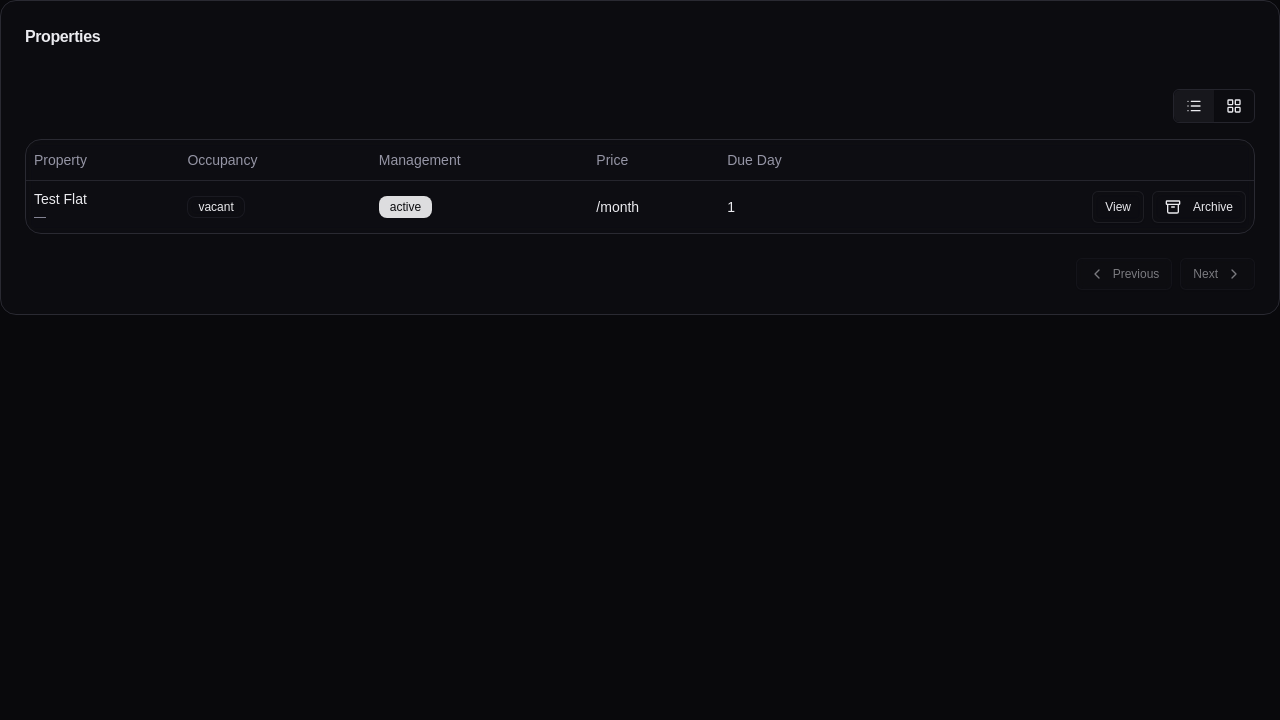
Test: PmPropertiesPage archive › closes the dialog after a successful archive
Click the button with aria-label "Archive Test Flat".
click(1199, 206)  # box [1152,190,1246,222]
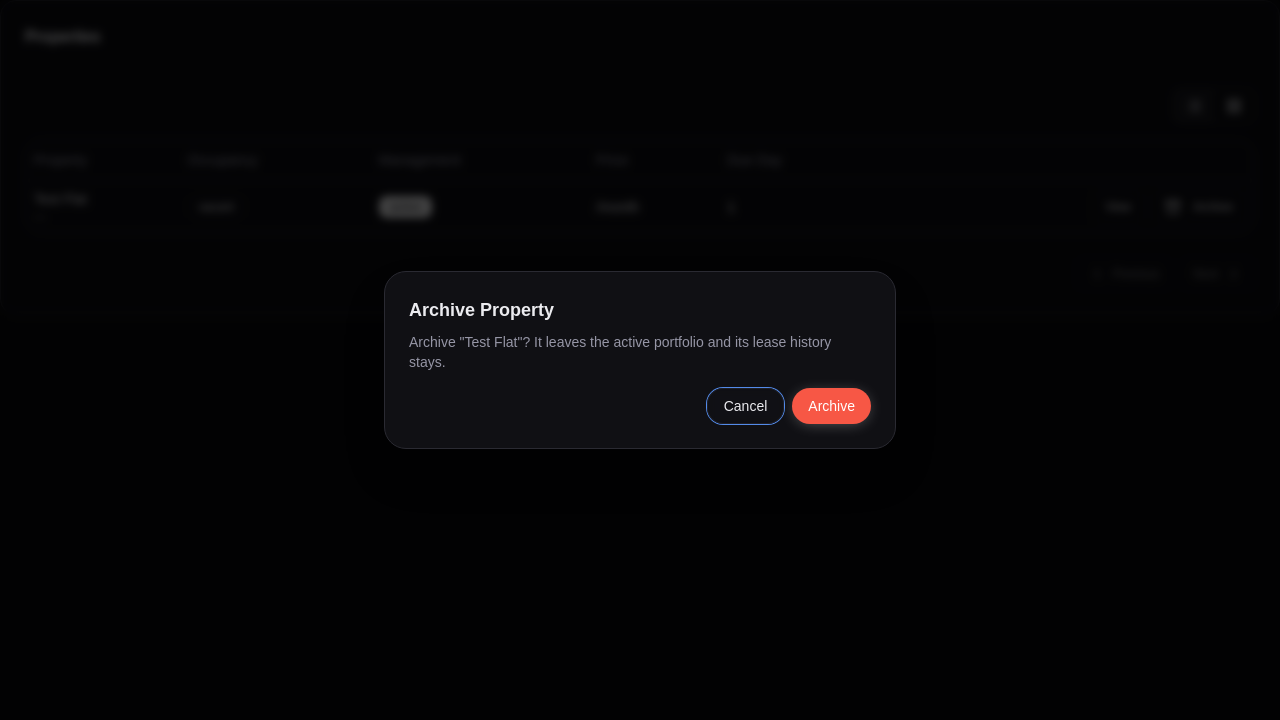
Click the button "Archive".
click(832, 406)  # box [792,388,871,424]
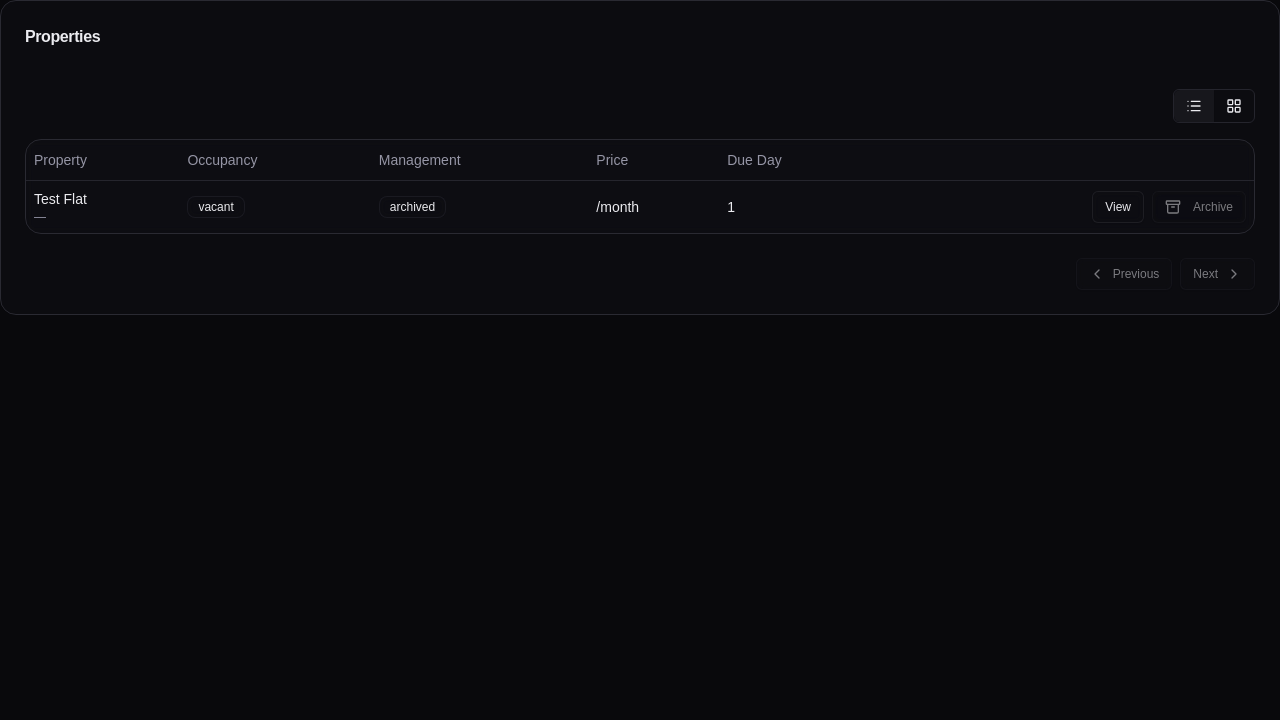
expect the dialog is gone: met
expect the button with aria-label "Archive Test Flat" is disabled: met, box [1152,190,1246,222]
